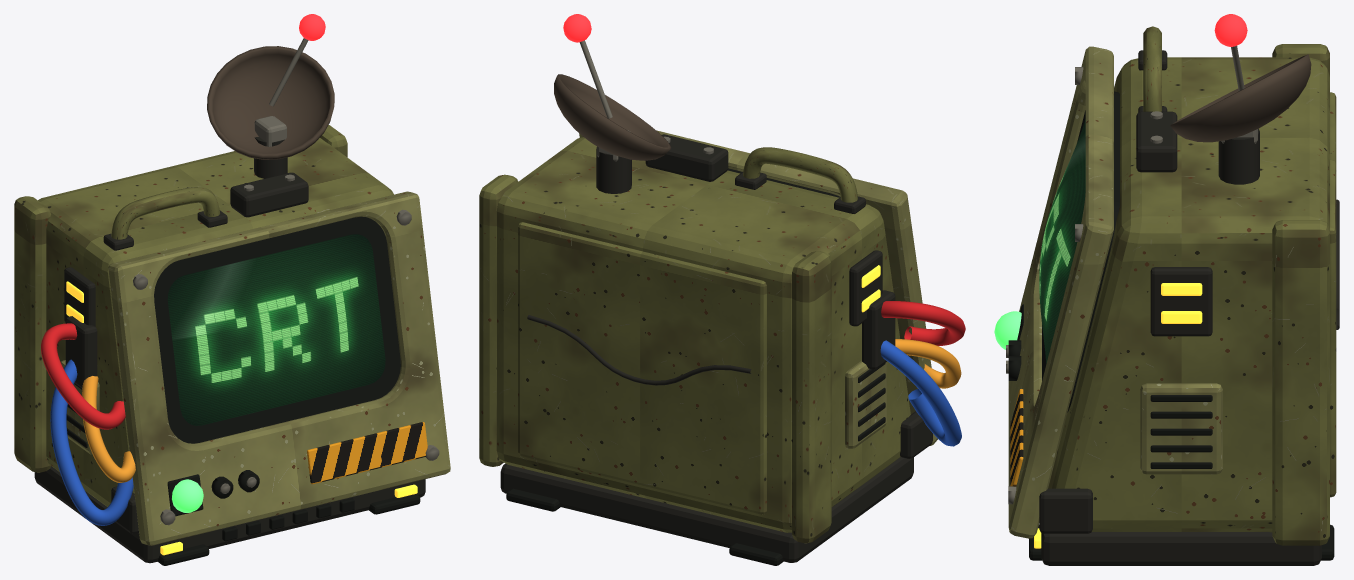
Rendered from crt.glb.
3 views of the same model, side by side, from view 1: azimuth 30°, elevation 25°; view 2: azimuth 150°, elevation 25°; view 3: azimuth 270°, elevation 25° (orthographic). The views are drawn at different scales.
Visible parts, largest first — view 1: CrtRadio; view 2: CrtRadio; view 3: CrtRadio.
Part boxes in pixels (left/top/right/bottom): CrtRadio: left=14, top=14, right=450, bottom=565; CrtRadio: left=479, top=14, right=965, bottom=565; CrtRadio: left=994, top=14, right=1339, bottom=565.
Size of the model in its own units: 1.25 by 1.42 by 0.8368.
Materials: 14 (4 with a texture image).
